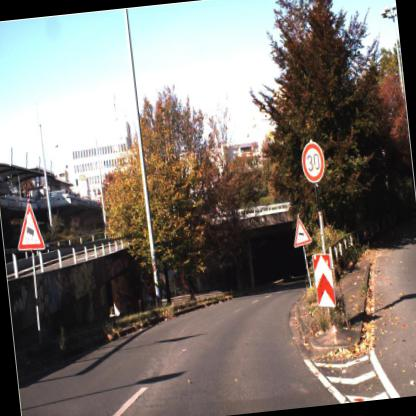danger: (8, 192, 50, 258), (288, 212, 312, 249)
prohibitory: (298, 136, 328, 184)
